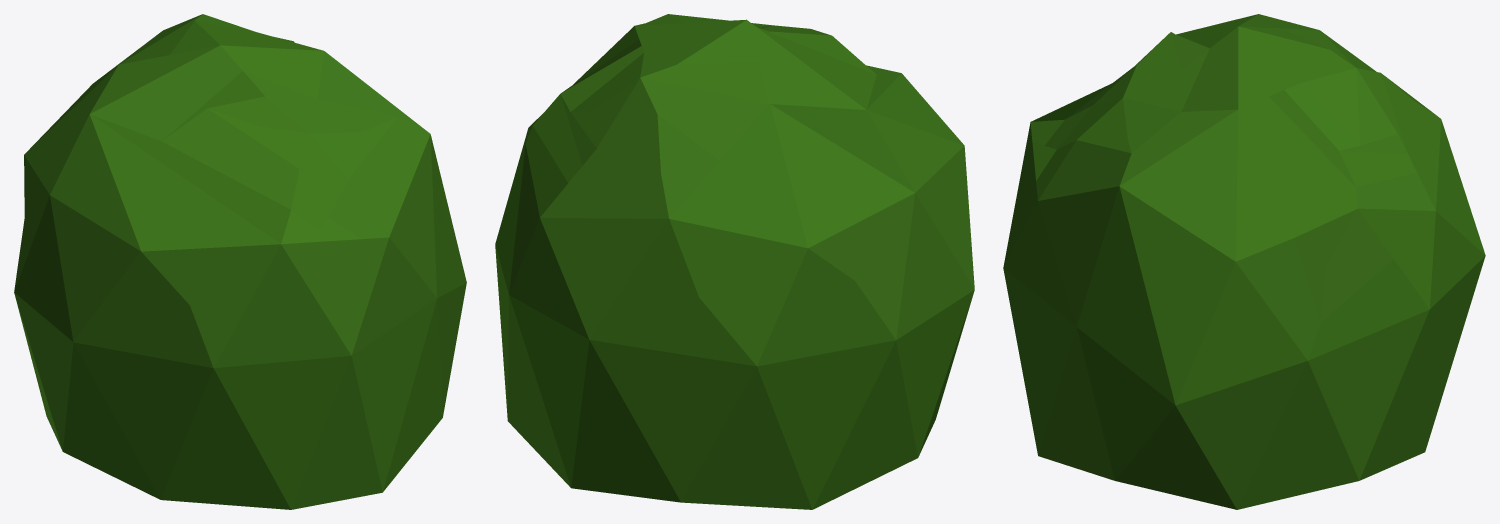
Rendered from bush 1.fbx.
3 views of the same model, side by side, from view 1: azimuth 30°, elevation 25°; view 2: azimuth 150°, elevation 25°; view 3: azimuth 270°, elevation 25° (orthographic). The views are drawn at different scales.
Visible parts, largest first — view 1: Icosphere; view 2: Icosphere; view 3: Icosphere.
Boxes of the visible parts, left/top/right/bottom form: Icosphere: left=14, top=14, right=466, bottom=509; Icosphere: left=495, top=14, right=974, bottom=509; Icosphere: left=1003, top=14, right=1485, bottom=509.
Size of the model in its own units: 200 by 189 by 208.
